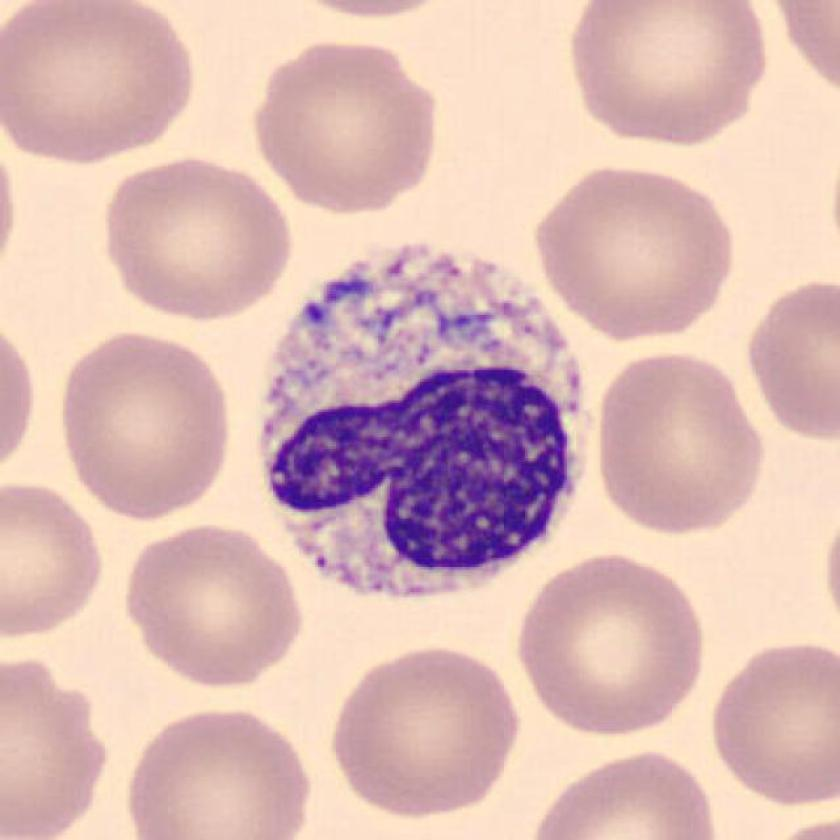neutrophil: (259, 249, 593, 601)
